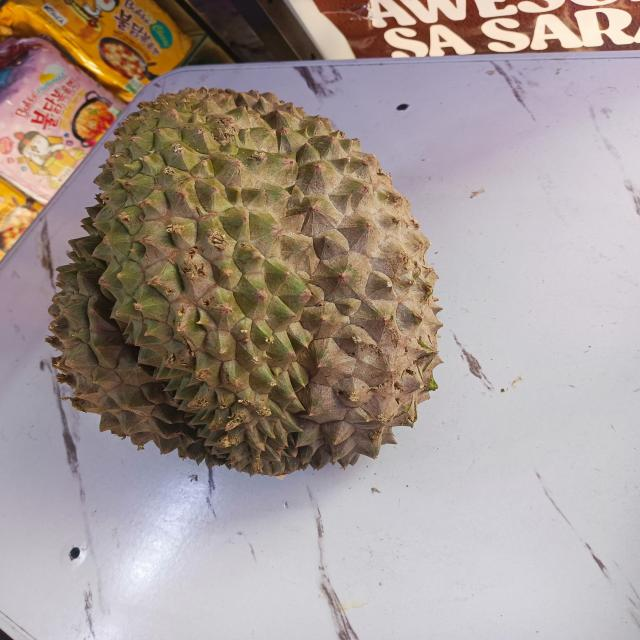mature: (42, 74, 447, 484)
